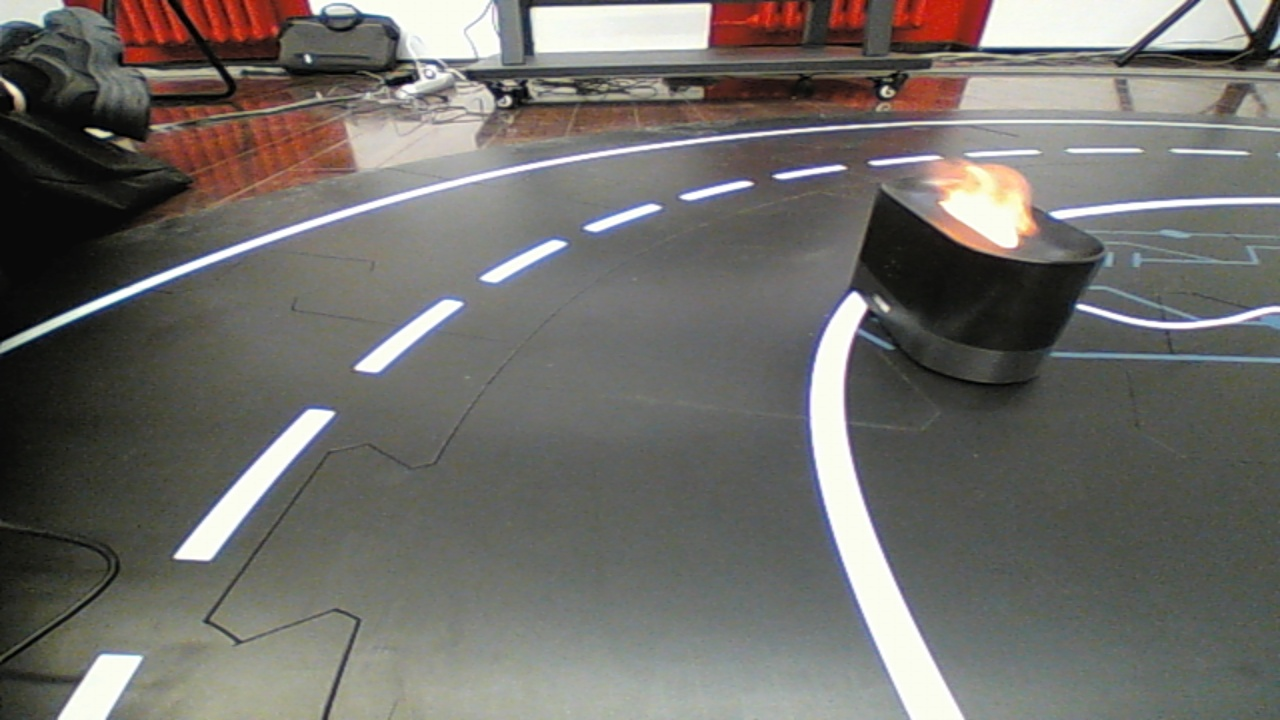Movement prohibition: (819, 158, 1134, 403)
